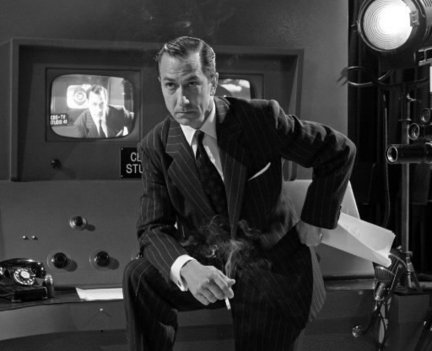cigarette: (223, 292, 235, 311)
not_cigarette: (319, 200, 395, 268), (71, 284, 136, 305), (375, 292, 391, 349)
